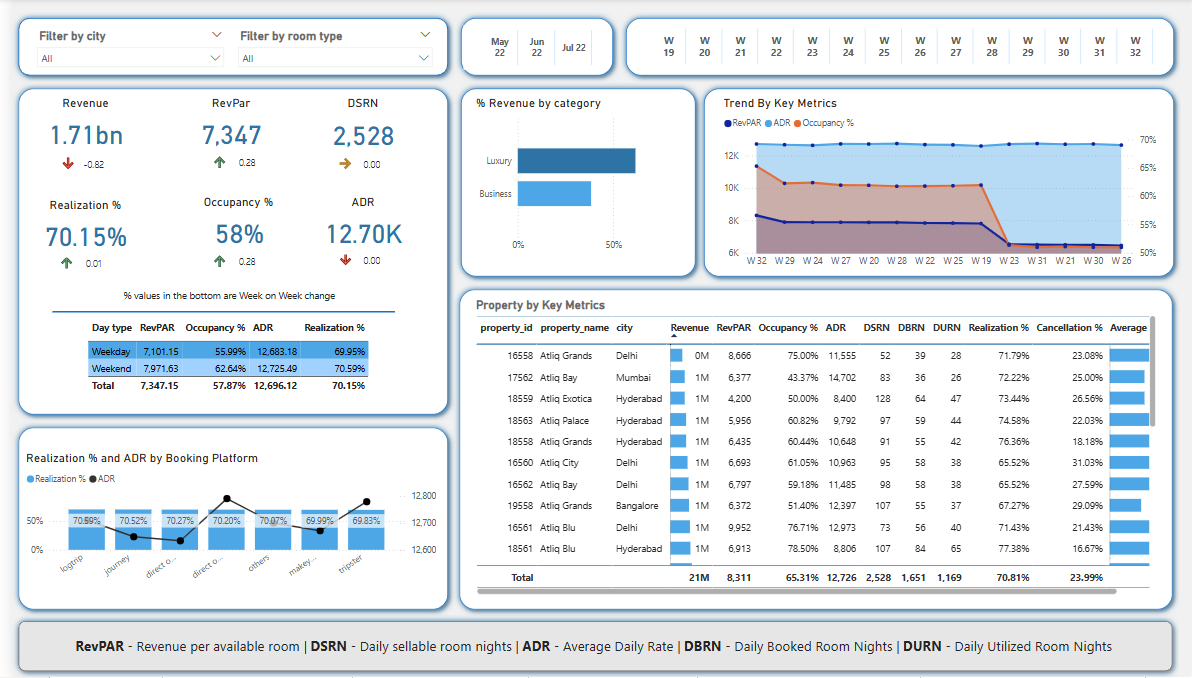

Layout of this report page (visuals, bound fields, positions):
{"tool":"powerbi","page":{"name":"Page 1","canvas":[1650,950],"ordinal":0},"visuals":[{"type":"shape","box":[0,18.9,619.1,98.6],"z":0},{"type":"shape","box":[850,18.9,784.9,98.6],"z":1000},{"type":"shape","box":[619.1,18.9,230.9,98.6],"z":2000},{"type":"shape","box":[959.1,117.5,675.8,281.2],"z":3000},{"type":"shape","box":[619.1,117.5,346.3,281.2],"z":4000},{"type":"shape","box":[617,398.8,1015.8,465.9],"z":5000},{"type":"shape","box":[0,591.8,619.1,272.8],"z":6000},{"type":"shape","box":[0,117.5,619.1,474.3],"z":7000},{"type":"tableEx","title":"Revenue","fields":{"Values":["key_measures.ADR WoW change %"]},"box":[447,327.4,88.1,60.9],"z":8000},{"type":"tableEx","title":"Revenue","fields":{"Values":["key_measures.Occupancy WoW change %"]},"box":[270.7,329.5,90.2,58.8],"z":9000},{"type":"tableEx","title":"Revenue","fields":{"Values":["key_measures.Realisation WoW change %"]},"box":[56.7,331.6,88.1,60.9],"z":10000},{"type":"tableEx","title":"Revenue","fields":{"Values":["key_measures.DSRN WoW change %"]},"box":[447,193.1,88.1,58.8],"z":11000},{"type":"tableEx","title":"Revenue","fields":{"Values":["key_measures.Revenue WoW change %"]},"box":[58.8,193.1,90.2,58.8],"z":12000},{"type":"tableEx","title":"Property by Key Metrics","fields":{"Values":["dim_hotels.property_id","dim_hotels.property_name","dim_hotels.city","key_measures.Revenue","key_measures.RevPAR","key_measures.Occupancy %","key_measures.ADR","key_measures.DSRN","key_measures.DBRN","key_measures.DURN","key_measures.Realization %","key_measures.Cancellation %"]},"box":[644.3,419.7,961.2,419.7],"z":13000},{"type":"slicer","fields":{"Values":["dim_hotels.city"]},"box":[25.2,37.8,281.2,63],"z":14000},{"type":"slicer","fields":{"Values":["dim_rooms.room_class"]},"box":[306.4,37.8,291.7,63],"z":15000},{"type":"slicer","fields":{"Values":["dim_date.mmm yy"]},"box":[631.7,37.8,203.6,63],"z":16000},{"type":"slicer","fields":{"Values":["dim_date.week no"]},"box":[868.9,35.7,751.3,63],"z":17000},{"type":"card","title":"Revenue","fields":{"Values":["key_measures.Revenue"]},"box":[25.2,136.4,155.3,83.9],"z":18000},{"type":"donutChart","title":"% Revenue by category","fields":{"Category":["dim_hotels.category"],"Y":["key_measures.Revenue"]},"box":[644.3,136.4,293.8,226.7],"z":19000},{"type":"tableEx","title":"Revenue","fields":{"Values":["key_measures.Revpar WoW change %"]},"box":[270.7,191,90.2,58.8],"z":20000},{"type":"card","title":"DSRN","fields":{"Values":["key_measures.DSRN"]},"box":[413.4,136.4,155.3,86],"z":21000},{"type":"card","title":"RevPar","fields":{"Values":["key_measures.RevPAR"]},"box":[228.8,136.4,155.3,83.9],"z":22000},{"type":"card","title":"Occupancy %","fields":{"Values":["key_measures.Occupancy %"]},"box":[239.3,274.9,155.3,83.9],"z":23000},{"type":"card","title":"ADR","fields":{"Values":["key_measures.ADR"]},"box":[413.4,274.9,155.3,83.9],"z":24000},{"type":"card","title":"Realization %","fields":{"Values":["key_measures.Realization %"]},"box":[25.2,279.1,155.3,83.9],"z":25000},{"type":"lineChart","title":"Trend By Key Metrics","fields":{"Category":["dim_date.mmm yy.Variation.Date Hierarchy.Month","dim_date.week no"],"Y":["key_measures.RevPAR","key_measures.ADR"],"Y2":["key_measures.Occupancy %"]},"box":[990.6,136.4,614.9,249.7],"z":26000},{"type":"lineClusteredColumnComboChart","title":"Realization % and ADR by Booking Platform","fields":{"Category":["fact_bookings.booking_platform"],"Y":["key_measures.Realization %"],"Y2":["key_measures.ADR"]},"box":[14.7,633.8,583.4,191],"z":27000},{"type":"tableEx","fields":{"Values":["dim_date.day_type","key_measures.RevPAR","key_measures.Occupancy %","key_measures.ADR","key_measures.Realization %"]},"box":[100.7,442.8,417.6,125.9],"z":28000},{"type":"shape","box":[0,862.8,1632.6,88.4],"z":29000},{"type":"textbox","box":[83.7,888.4,1483.7,39.5],"z":30000},{"type":"shape","box":[55.8,402.3,479.1,72.1],"z":31000},{"type":"textbox","box":[151.2,400,314,34.9],"z":31001}]}

Visuals, with their boxes in screenshot pixels (x1, y1, x2, y2), scaled from the page's 1650x950 canvas onto the 1192x678 screenshot:
shape: 0:13:447:84
shape: 614:13:1181:84
shape: 447:13:614:84
shape: 693:84:1181:285
shape: 447:84:697:285
shape: 446:285:1180:617
shape: 0:422:447:617
shape: 0:84:447:422
"Revenue" tableEx: 323:234:387:277
"Revenue" tableEx: 196:235:261:277
"Revenue" tableEx: 41:237:105:280
"Revenue" tableEx: 323:138:387:180
"Revenue" tableEx: 42:138:108:180
"Property by Key Metrics" tableEx: 465:300:1160:599
slicer - dim_hotels.city: 18:27:221:72
slicer - dim_rooms.room_class: 221:27:432:72
slicer - dim_date.mmm yy: 456:27:603:72
slicer - dim_date.week no: 628:25:1170:70
"Revenue" card: 18:97:130:157
"% Revenue by category" donutChart: 465:97:678:259
"Revenue" tableEx: 196:136:261:178
"DSRN" card: 299:97:411:159
"RevPar" card: 165:97:277:157
"Occupancy %" card: 173:196:285:256
"ADR" card: 299:196:411:256
"Realization %" card: 18:199:130:259
"Trend By Key Metrics" lineChart: 716:97:1160:276
"Realization % and ADR by Booking Platform" lineClusteredColumnComboChart: 11:452:432:589
tableEx - dim_date.day_type x key_measures.RevPAR: 73:316:374:406
shape: 0:616:1179:677
textbox: 60:634:1132:662
shape: 40:287:386:339
textbox: 109:285:336:310
